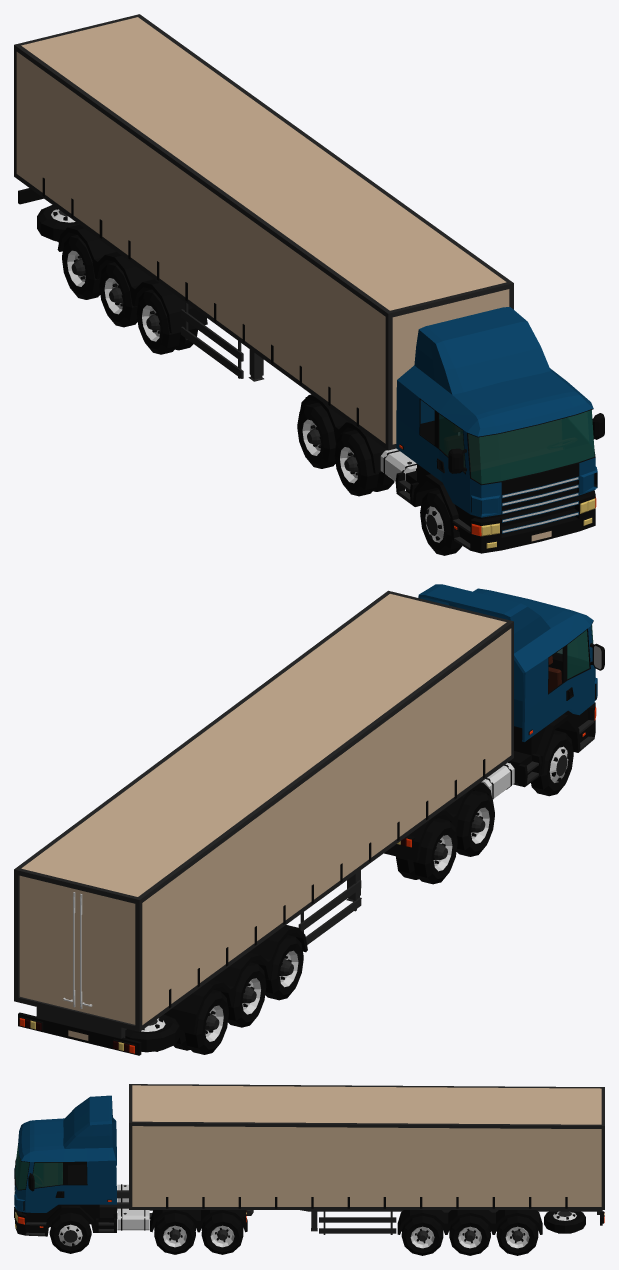
Rendered from CargoTruck_02.FBX.
The picture shows the model from 3 angles, top to bottom: view 1: azimuth 30°, elevation 25°; view 2: azimuth 150°, elevation 25°; view 3: azimuth 270°, elevation 25°; orthographic projection. The views are drawn at different scales.
Visible parts, largest first — view 1: trailer, CargoTruck_02, interior, wheels_b1_r, grill, wheels-tr_01_r, wheel_b2_r, wheels-tr_02_r, wheels-tr_03_r, wheel_f_r, spareWheel_r, tank_r; view 2: trailer, CargoTruck_02, wheel_b2_r, wheels_b1_r, wheels-tr_03_r, wheels-tr_02_r, wheels-tr_01_r, wheel_f_r, interior, spareWheel_r, tank_r; view 3: trailer, CargoTruck_02, interior, wheels_b2_l, wheels_b1_l, wheels_f_l, wheels-tr_03_l, wheels-tr_01_l, wheels-tr_02_l, spareWheel_l, tank_l.
Part boxes in pixels (x1,y1,x2,y2): trailer: [14, 14, 513, 450]; CargoTruck_02: [300, 307, 597, 553]; interior: [420, 400, 594, 483]; wheels_b1_r: [334, 430, 394, 496]; grill: [498, 476, 578, 533]; wheels-tr_01_r: [136, 289, 197, 354]; wheel_b2_r: [297, 403, 335, 468]; wheels-tr_02_r: [99, 262, 137, 327]; wheels-tr_03_r: [62, 235, 100, 299]; wheel_f_r: [420, 490, 462, 555]; spareWheel_r: [37, 205, 78, 241]; tank_r: [380, 448, 416, 489]; trailer: [14, 590, 513, 1055]; CargoTruck_02: [384, 584, 597, 861]; wheel_b2_r: [396, 818, 457, 884]; wheels_b1_r: [456, 790, 494, 856]; wheels-tr_03_r: [173, 989, 228, 1054]; wheels-tr_02_r: [228, 962, 266, 1027]; wheels-tr_01_r: [265, 935, 303, 1000]; wheel_f_r: [531, 730, 573, 796]; interior: [548, 626, 592, 692]; spareWheel_r: [125, 1014, 179, 1052]; tank_r: [481, 762, 514, 799]; trailer: [129, 1084, 604, 1234]; CargoTruck_02: [14, 1095, 253, 1236]; interior: [15, 1148, 86, 1189]; wheels_b2_l: [201, 1212, 243, 1254]; wheels_b1_l: [154, 1213, 195, 1254]; wheels_f_l: [49, 1212, 91, 1253]; wheels-tr_03_l: [496, 1215, 538, 1255]; wheels-tr_01_l: [401, 1215, 443, 1255]; wheels-tr_02_l: [449, 1215, 490, 1255]; spareWheel_l: [544, 1211, 585, 1233]; tank_l: [117, 1208, 149, 1230].
Bounding box in the file's own units: 34.26 × 43.61 × 177.
